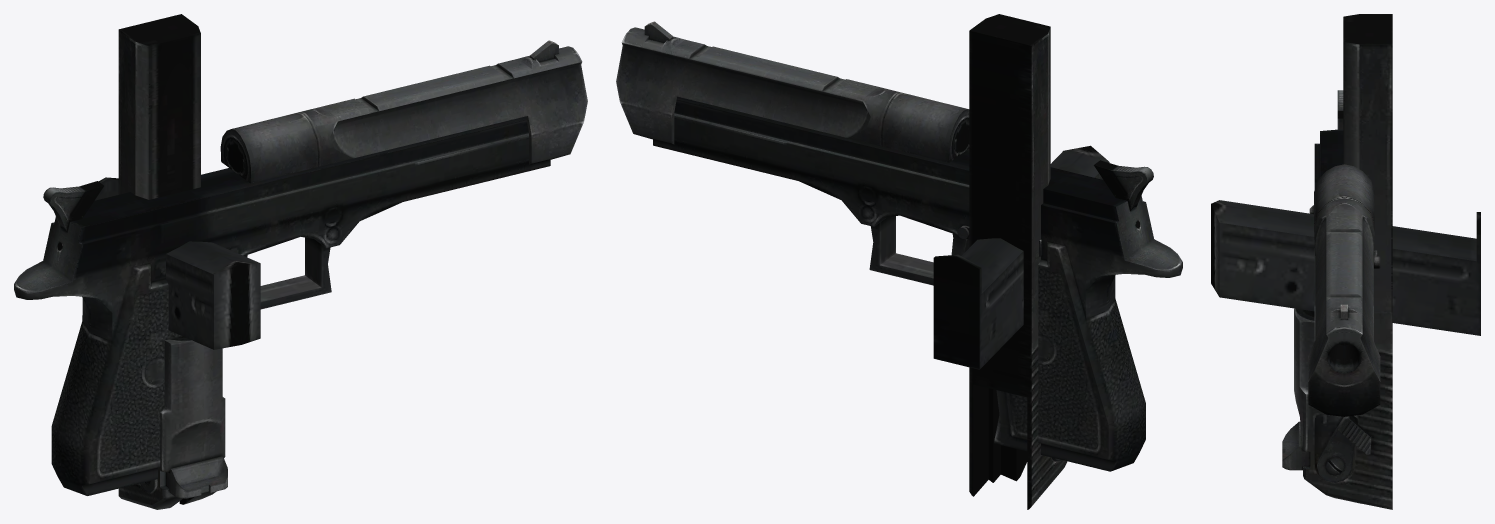
Rendered from DesertEagle.obj.
3 views of the same model, side by side, from view 1: azimuth 30°, elevation 25°; view 2: azimuth 150°, elevation 25°; view 3: azimuth 270°, elevation 25° (orthographic).
Visible parts, largest first — view 1: Model_DesertEagle, Model_Handle, Model_Magazine; view 2: Model_DesertEagle, Model_Handle, Model_Magazine; view 3: Model_Handle, Model_Magazine, Model_DesertEagle.
Part boxes in pixels (bbox=[...]): Model_DesertEagle: bbox=[14, 40, 587, 495]; Model_Handle: bbox=[118, 14, 227, 509]; Model_Magazine: bbox=[95, 177, 260, 349]; Model_DesertEagle: bbox=[616, 21, 1182, 471]; Model_Handle: bbox=[969, 14, 1067, 509]; Model_Magazine: bbox=[933, 145, 1109, 369]; Model_Handle: bbox=[1282, 14, 1392, 509]; Model_Magazine: bbox=[1211, 200, 1480, 335]; Model_DesertEagle: bbox=[1308, 90, 1380, 416].
Size of the model in its own units: 0.2715 by 0.2195 by 0.1148.
1 material, 1 textured.
